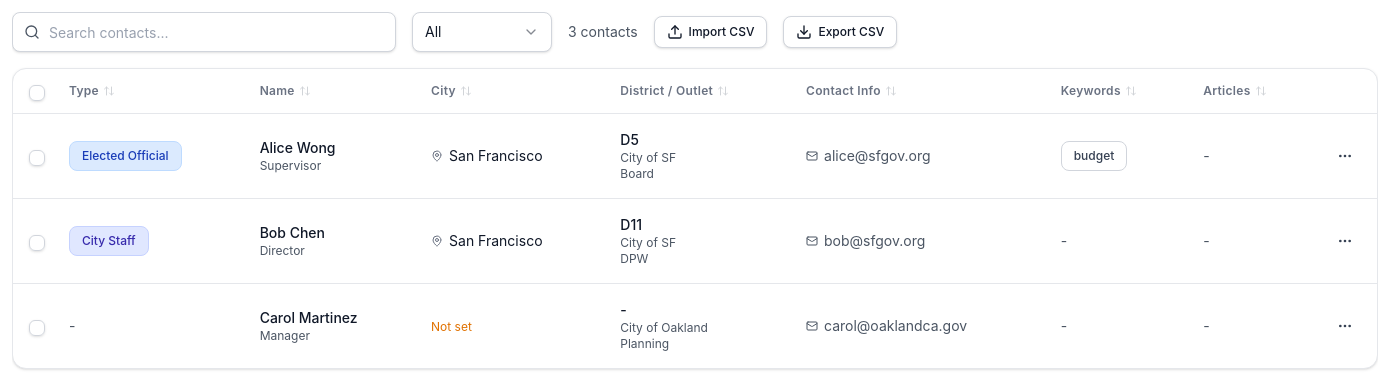
ContactsTable › filters contacts by search query
In the field with placeholder "Search contacts...": (204, 32) [12,12,396,52], type "alice"
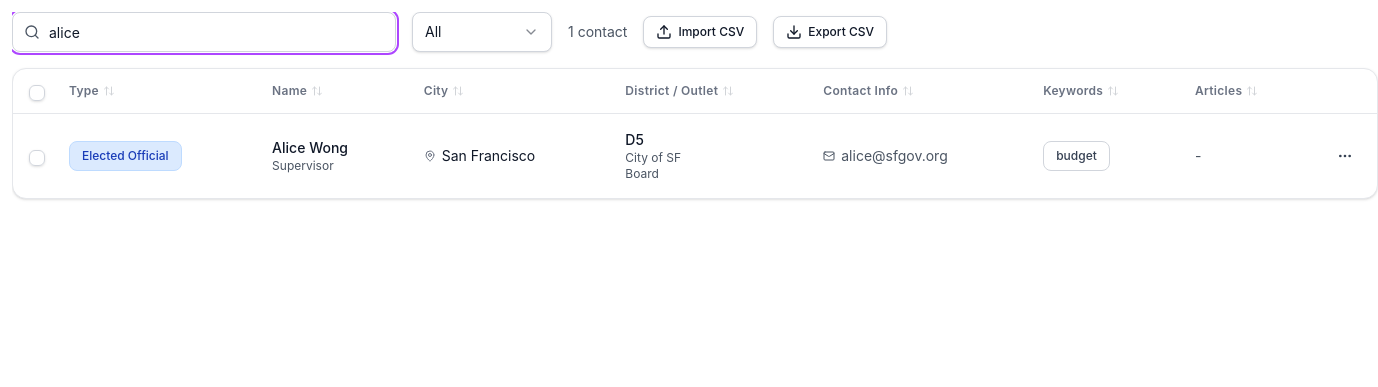
Expected: the text "Alice Wong" is shown, [272,138,348,158]
Now the text "Bob Chen" is gone
Now the text "Carol Martinez" is gone
